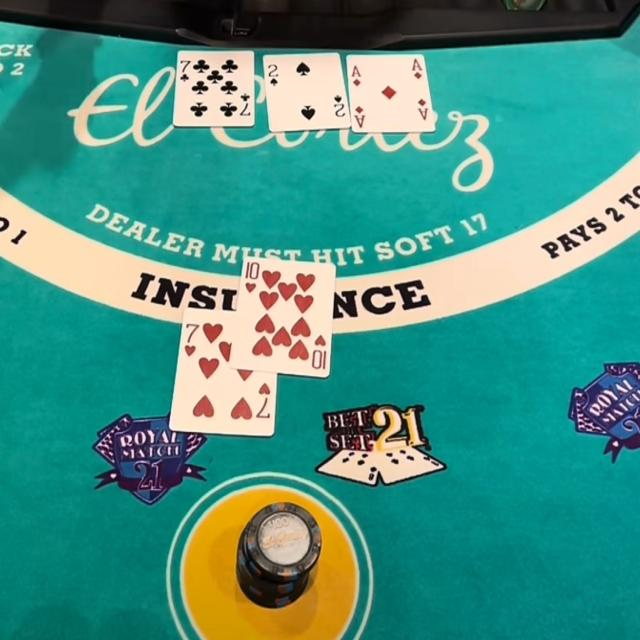10: (243, 259, 260, 280)
2: (266, 62, 280, 78)
7: (184, 322, 201, 344), (178, 57, 192, 74)
A: (350, 62, 364, 78)
